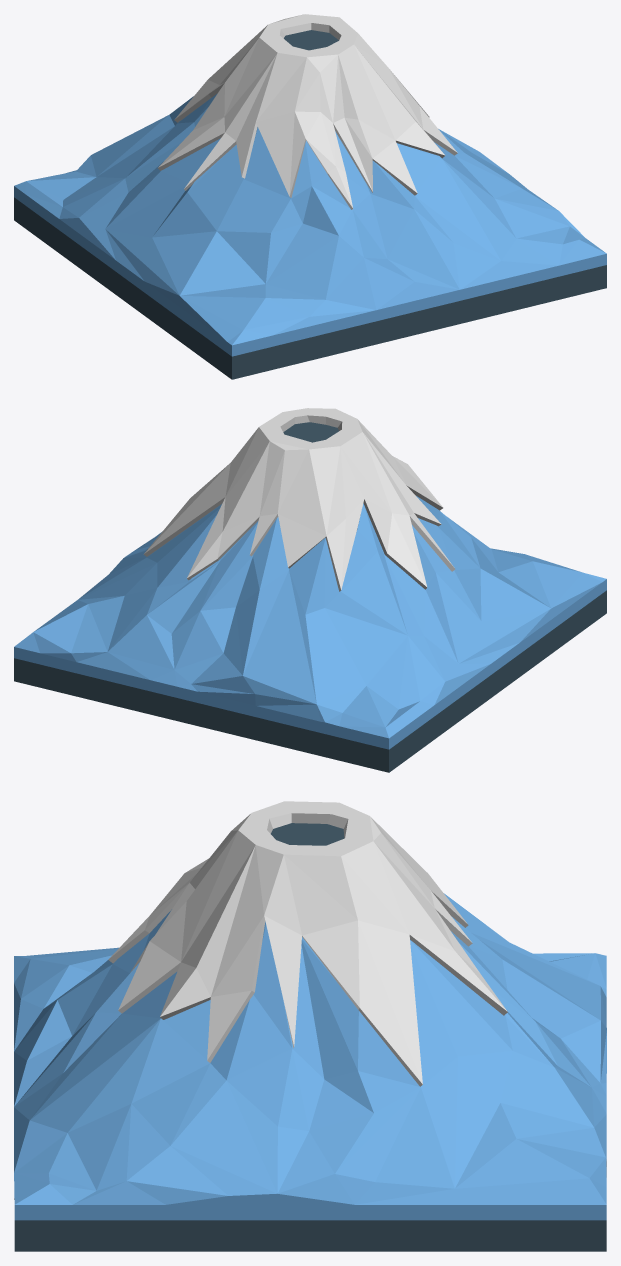
The model's file is dibiao_fushishan.fbx.
The picture shows the model from 3 angles, top to bottom: view 1: azimuth 30°, elevation 25°; view 2: azimuth 150°, elevation 25°; view 3: azimuth 270°, elevation 25°; orthographic projection. The views are drawn at different scales.
Visible parts, largest first — view 1: dibiao_fushishan; view 2: dibiao_fushishan; view 3: dibiao_fushishan.
Part boxes in pixels (x1=…): dibiao_fushishan: x1=14, y1=14, x2=606, y2=379; dibiao_fushishan: x1=14, y1=408, x2=606, y2=772; dibiao_fushishan: x1=14, y1=801, x2=606, y2=1251.
Bounding box in the file's own units: 6189 × 6229 × 3450.
